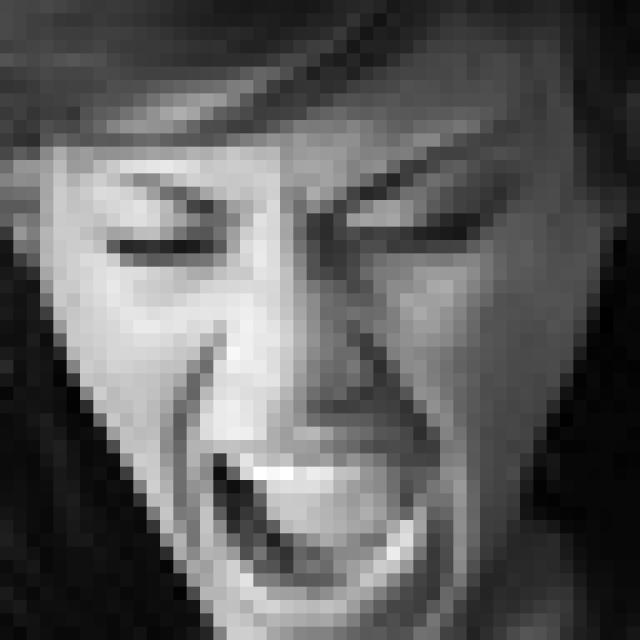angry: (93, 126, 522, 631)
